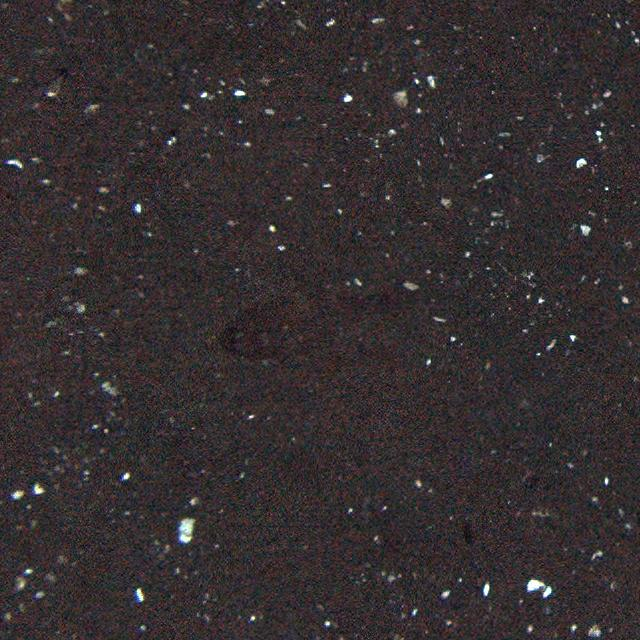flatfish: (214, 281, 439, 358)
